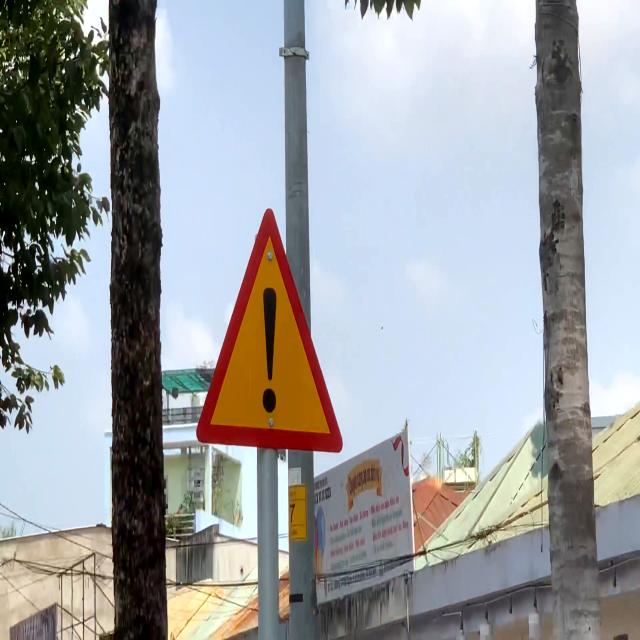W.233: (192, 204, 349, 461)
